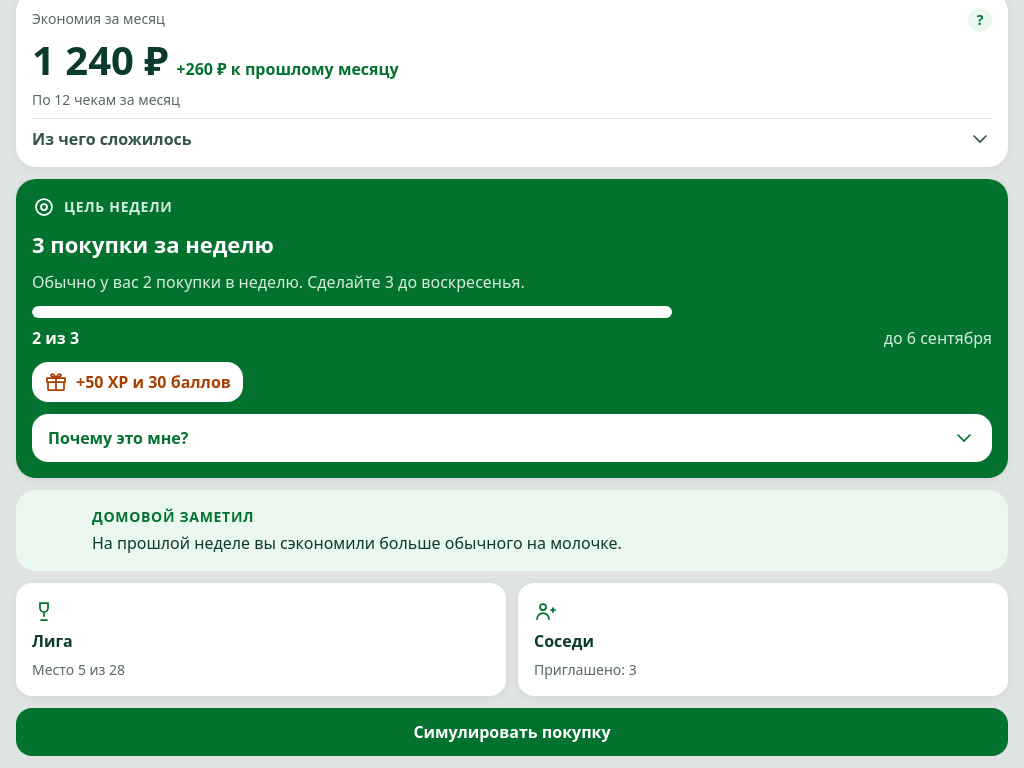
Scenario: ReceiptSheet › подсказка цели меняется, когда из чека убрали категорию цели недели
The width and height of the screenshot is (1024, 768).
(page scrolled)
expect the text "2 из 3" is shown: met, box [32,326,79,350]
Click the button "Симулировать покупку". click: (512, 732)
box: [16,708,1008,756]
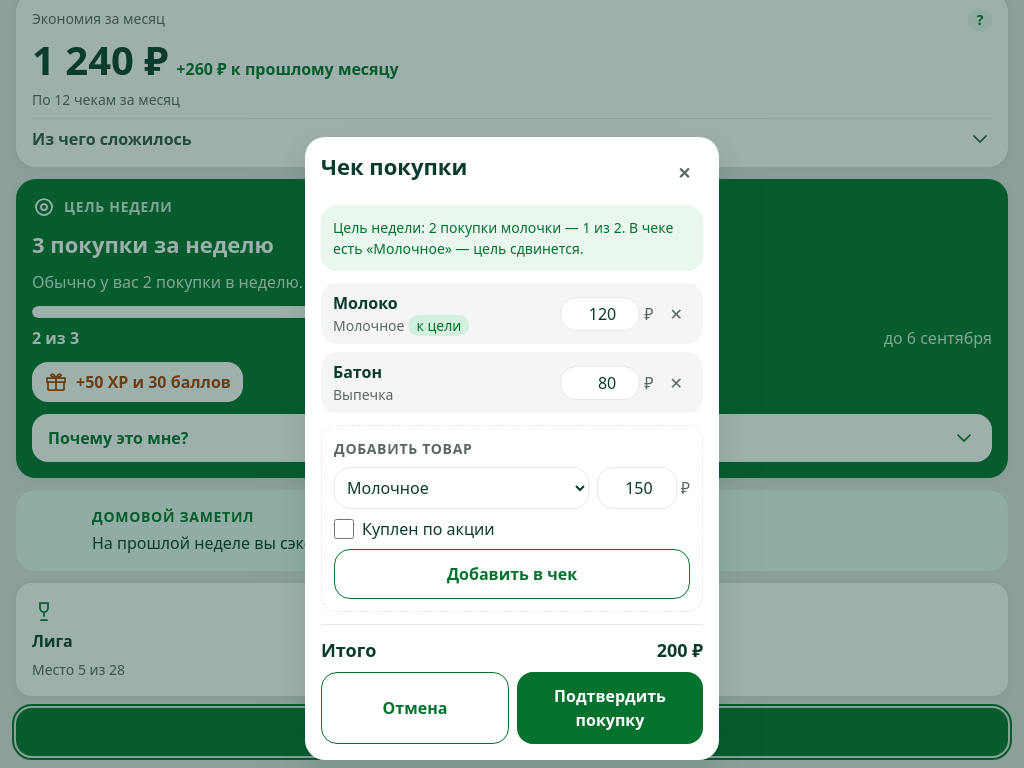
expect the text "цель сдвинется" is shown: met, box [333,218,673,258]
expect the text "к цели" is shown once: met, box [408,315,469,336]
Click the button named "Удалить: Молоко". click: (676, 314)
box: [662,298,691,330]
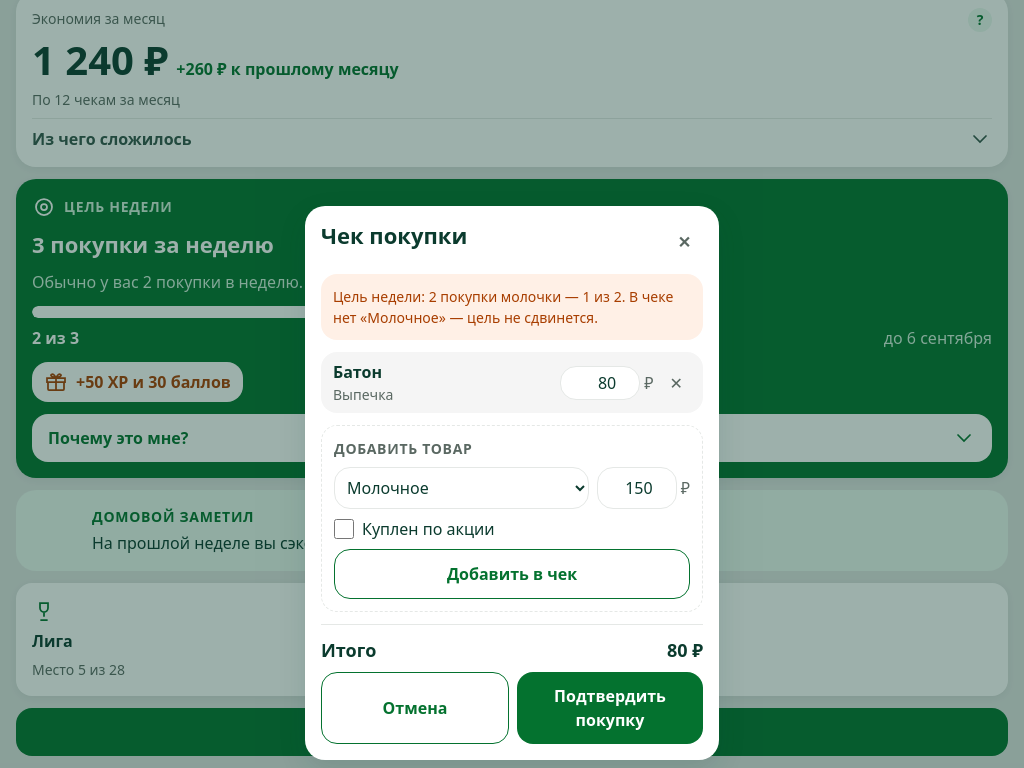
expect the text "цель не сдвинется" is shown: met, box [333,287,673,327]
